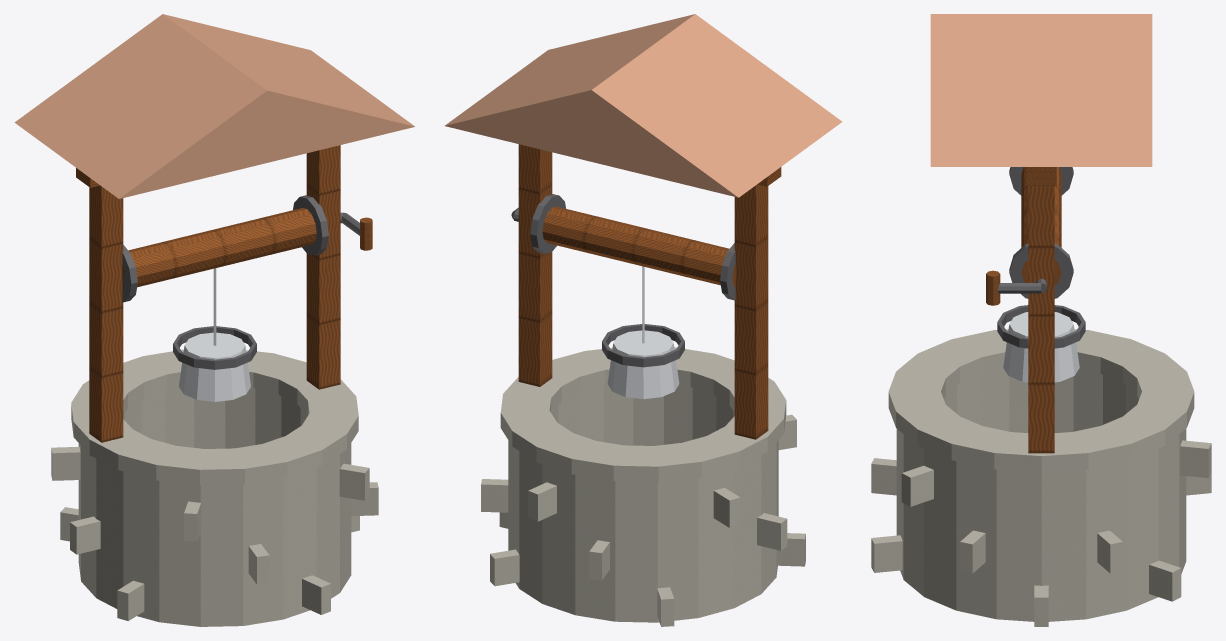
File: courtyard-well.glb
3 renders of one model, left to right at view 1: azimuth 30°, elevation 25°; view 2: azimuth 150°, elevation 25°; view 3: azimuth 270°, elevation 25°, orthographic. The views are drawn at different scales.
Visible parts, largest first — view 1: courtyard-well-stone, courtyard-well-terracotta, courtyard-well-timber, winder/timber, winder/steel, winder/dark; view 2: courtyard-well-stone, courtyard-well-terracotta, courtyard-well-timber, winder/timber, winder/steel, winder/dark; view 3: courtyard-well-stone, courtyard-well-terracotta, courtyard-well-timber, winder/dark, winder/steel, winder/timber.
Boxes of the visible parts, bbox=[...] form: courtyard-well-stone: bbox=[51, 349, 378, 626]; courtyard-well-terracotta: bbox=[14, 14, 414, 198]; courtyard-well-timber: bbox=[76, 145, 340, 442]; winder/timber: bbox=[122, 208, 372, 289]; winder/steel: bbox=[179, 268, 250, 401]; winder/dark: bbox=[122, 195, 359, 369]; courtyard-well-stone: bbox=[481, 347, 805, 626]; courtyard-well-terracotta: bbox=[445, 14, 842, 197]; courtyard-well-timber: bbox=[518, 144, 781, 439]; winder/timber: bbox=[542, 206, 735, 287]; winder/steel: bbox=[607, 266, 679, 399]; winder/dark: bbox=[511, 194, 735, 367]; courtyard-well-stone: bbox=[871, 329, 1211, 626]; courtyard-well-terracotta: bbox=[930, 14, 1152, 166]; courtyard-well-timber: bbox=[1026, 167, 1056, 453]; winder/dark: bbox=[997, 167, 1085, 348]; winder/steel: bbox=[1003, 312, 1079, 382]; winder/timber: bbox=[986, 167, 1061, 305].
Bounding box in the file's own units: 1.8 × 3 × 1.69.
Materials: 5 (2 with a texture image).
